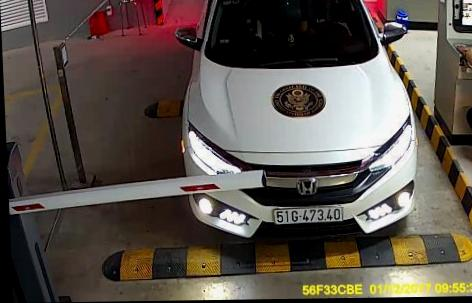License_Plate: (271, 204, 346, 226)
